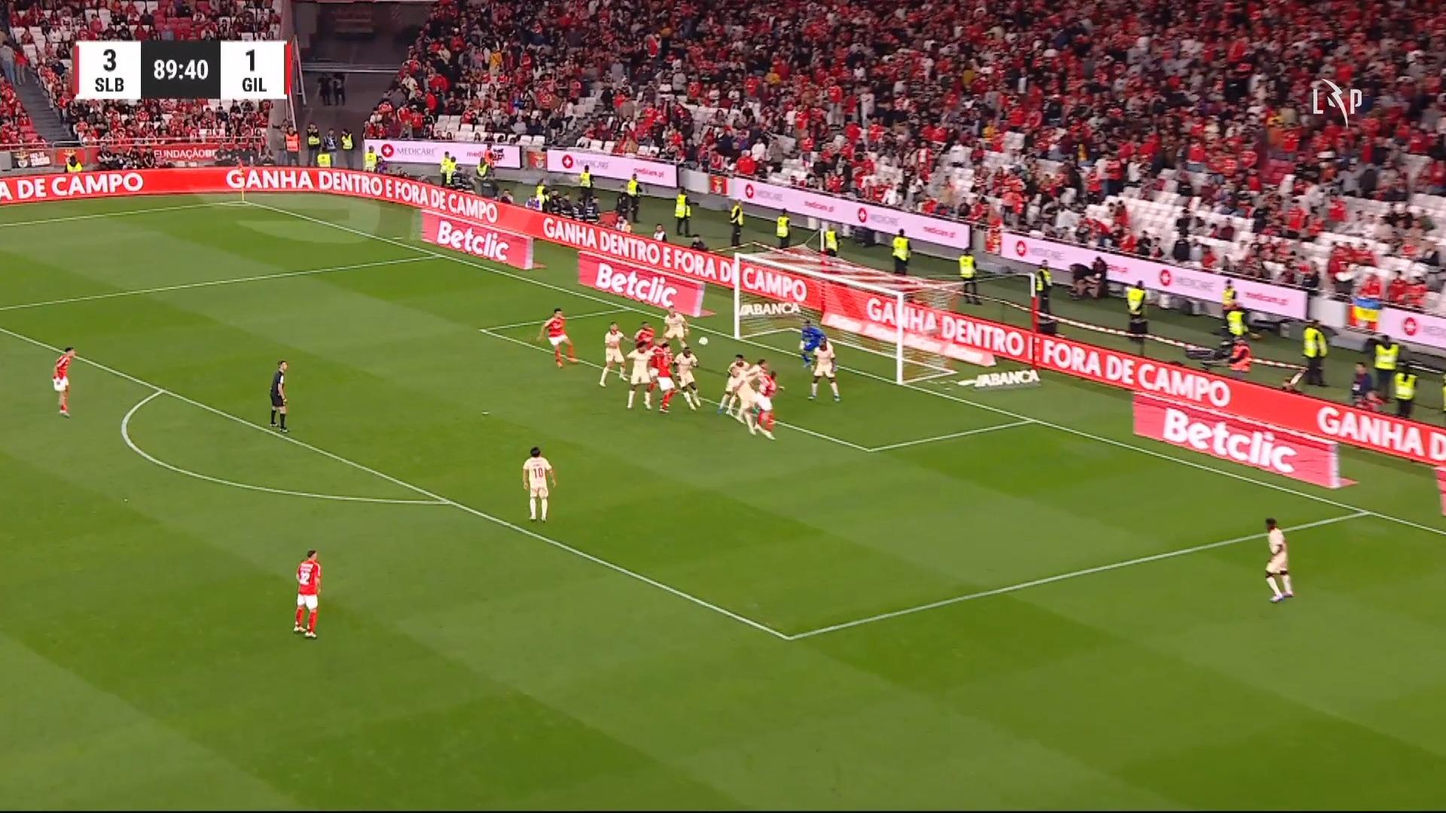ball: (698, 336, 707, 346)
goalkeeper: (798, 318, 824, 368)
player: (520, 446, 557, 522), (292, 549, 322, 638), (1263, 516, 1294, 602), (537, 307, 579, 367), (728, 363, 762, 433), (624, 337, 654, 410), (807, 337, 840, 402), (598, 321, 628, 387), (715, 355, 750, 410), (651, 340, 676, 413), (672, 346, 700, 410), (51, 346, 76, 417), (754, 369, 778, 442), (745, 359, 769, 423), (661, 301, 688, 351), (635, 321, 656, 367)
referee: (268, 359, 290, 432)
